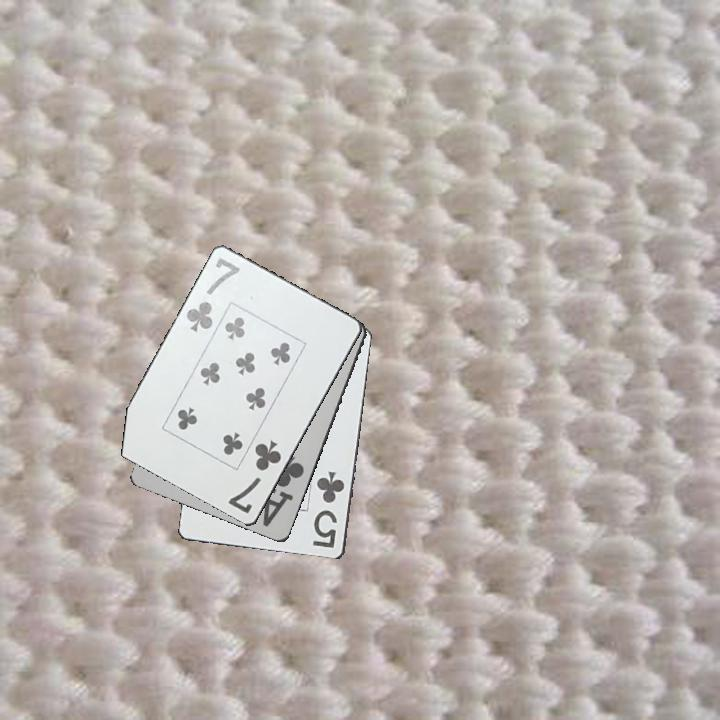5c: (309, 468, 348, 551)
7c: (183, 254, 243, 336), (225, 436, 285, 517)
Ac: (259, 451, 307, 530)
